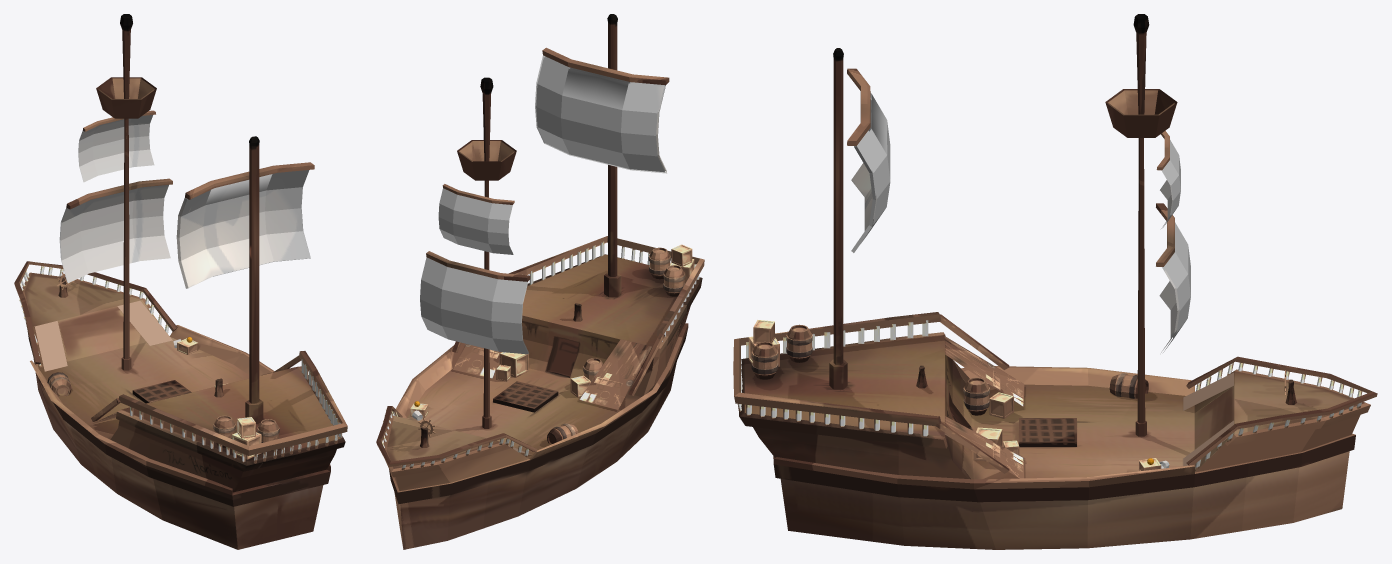
The model's file is Boat_Top.fbx.
3 views of the same model, side by side, from view 1: azimuth 30°, elevation 25°; view 2: azimuth 150°, elevation 25°; view 3: azimuth 270°, elevation 25° (orthographic). The views are drawn at different scales.
Visible parts, largest first — view 1: TopBoatFinal; view 2: TopBoatFinal; view 3: TopBoatFinal.
Boxes of the visible parts, <box> form: TopBoatFinal: <box>14,14,347,549</box>; TopBoatFinal: <box>376,14,704,549</box>; TopBoatFinal: <box>733,14,1377,549</box>.
Bounding box in the file's own units: 511 × 998 × 1183.
